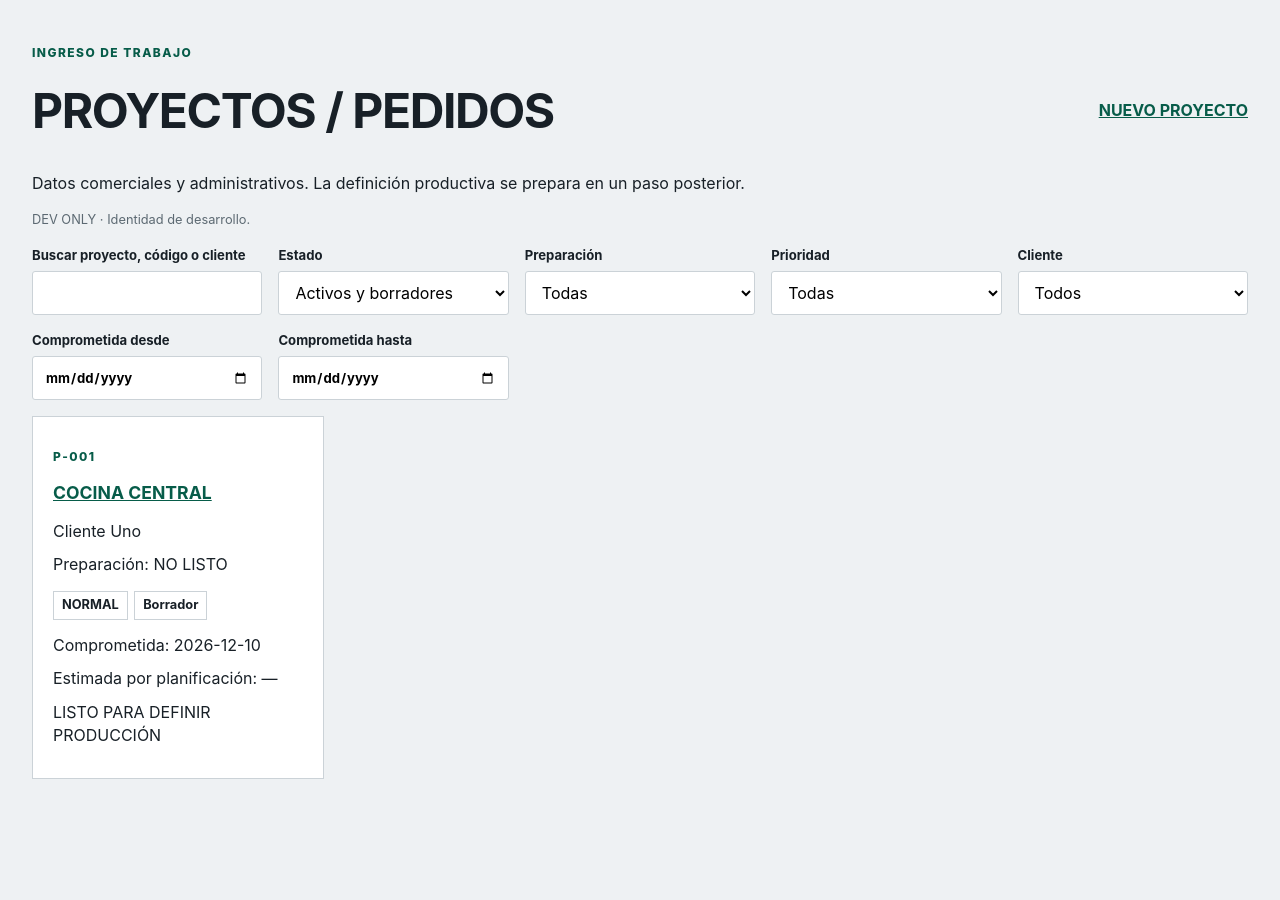
Test: búsqueda por referencia código y cliente filtra sin coincidencia
Check: the link "Cocina Central" is shown, box [53,482,212,503]
Type "sin coincidencia" into the field labelled "Buscar proyecto, código o cliente" at (147, 293), box [32,271,262,315]
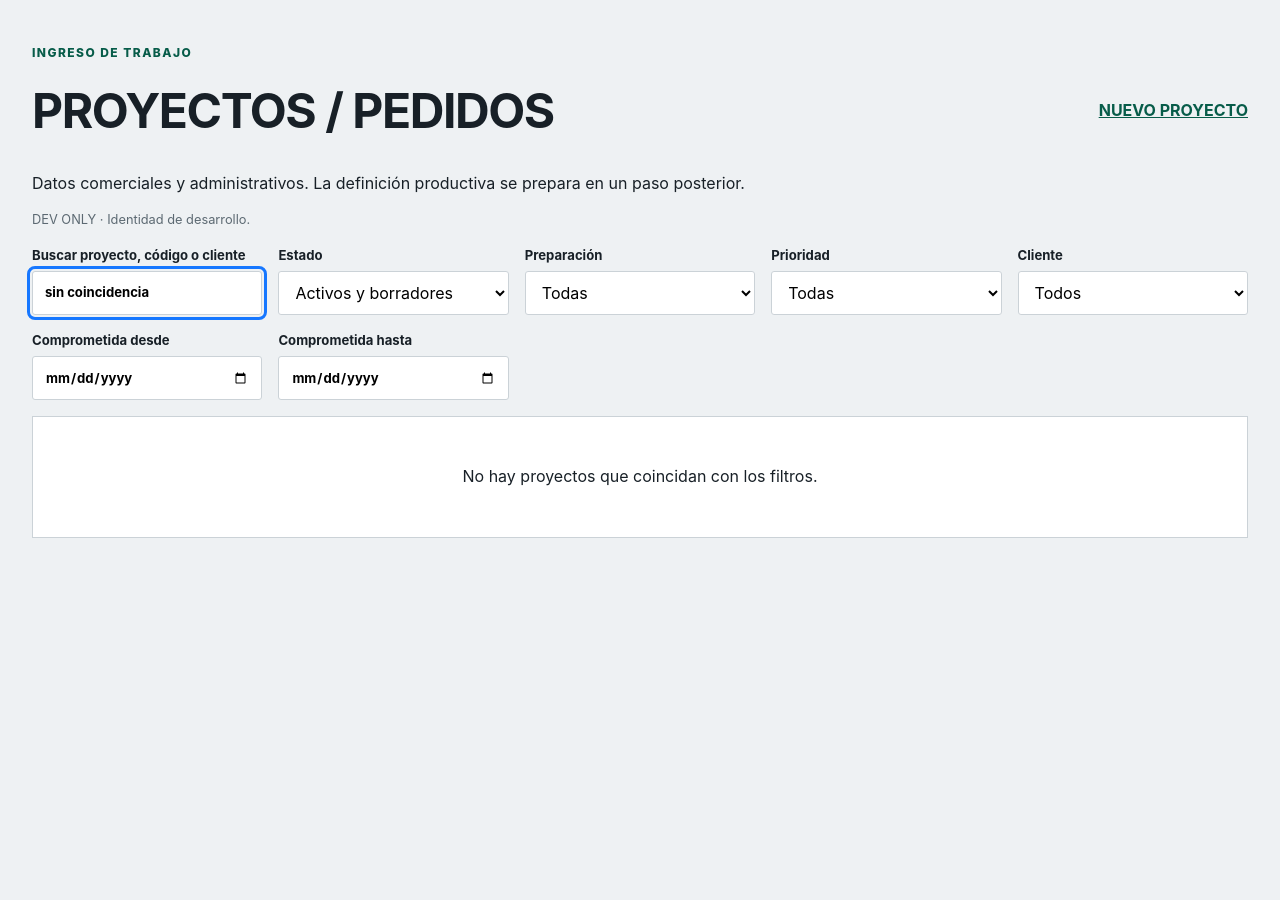
Check: the link "Cocina Central" is gone
Check: the text "No hay proyectos que coincidan con los filtros." is shown, box [32,416,1248,538]
